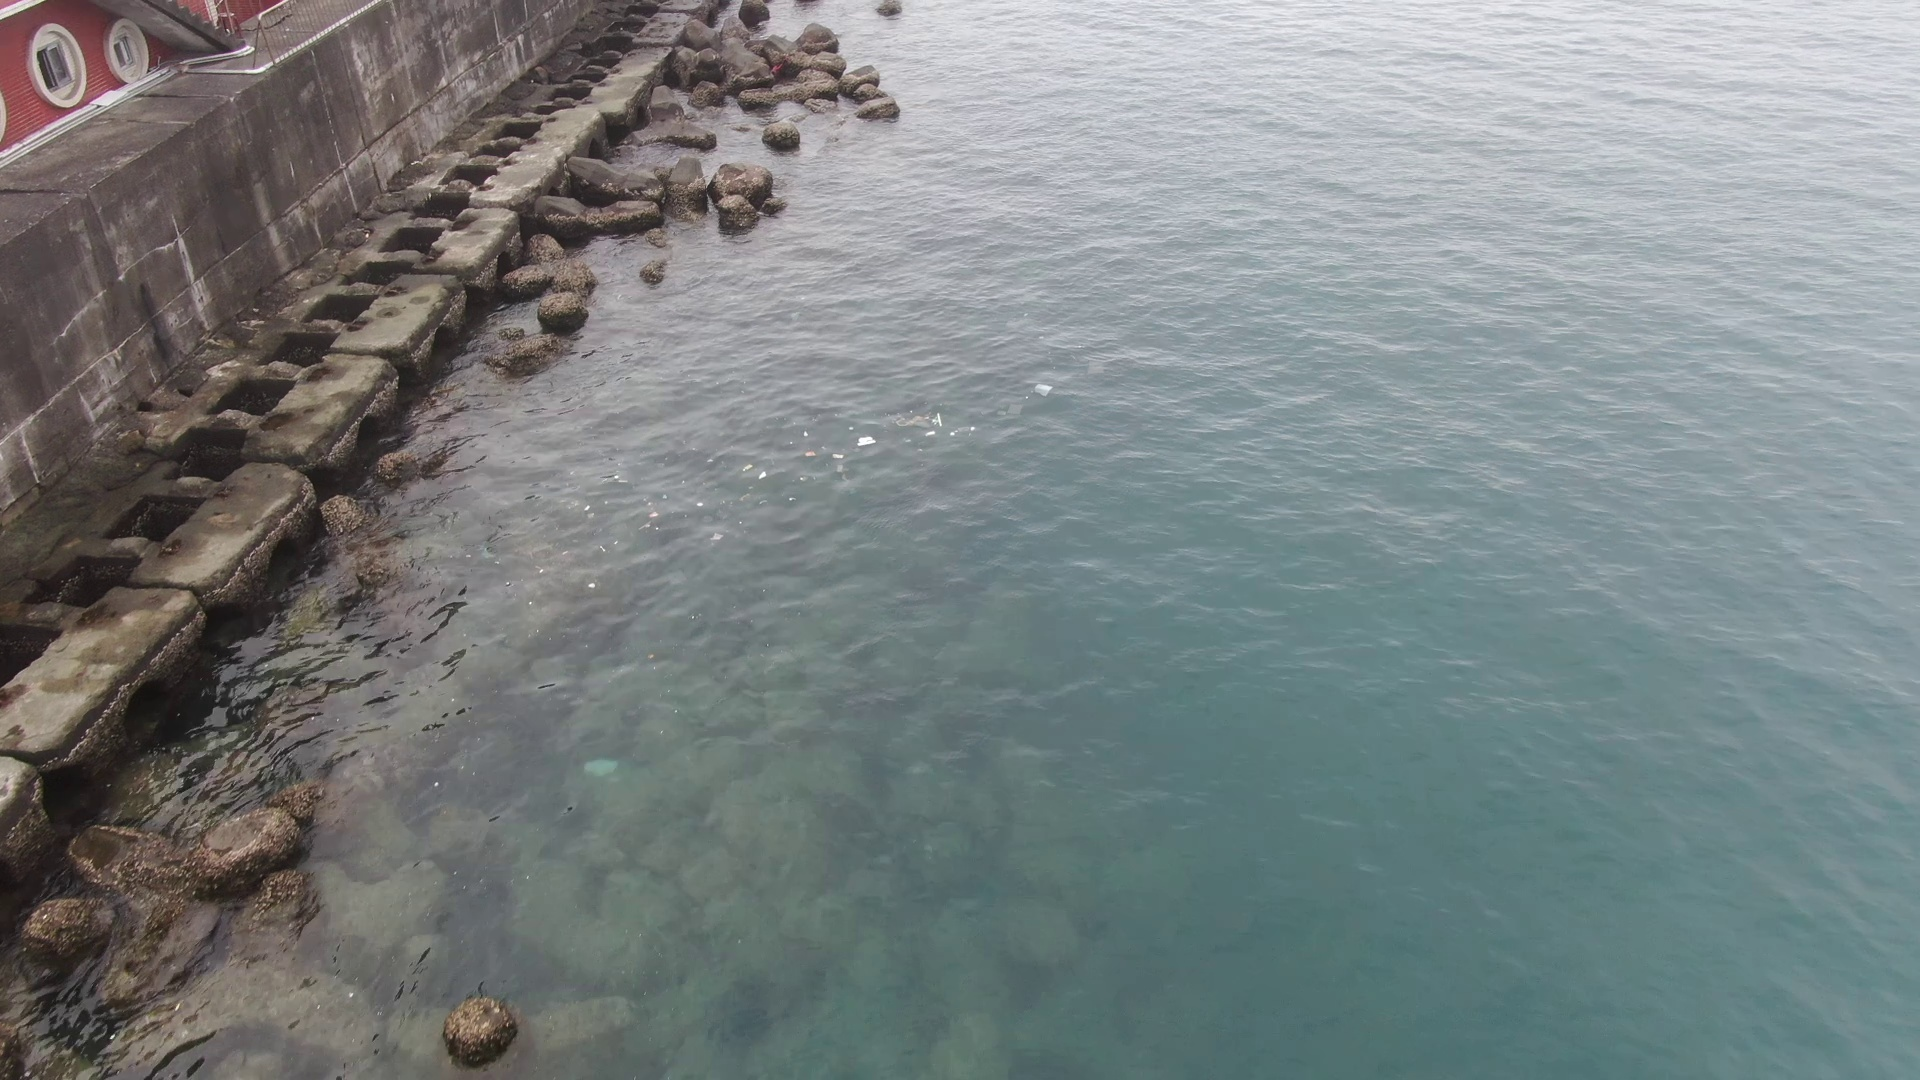garbage: (591, 359, 1080, 541)
